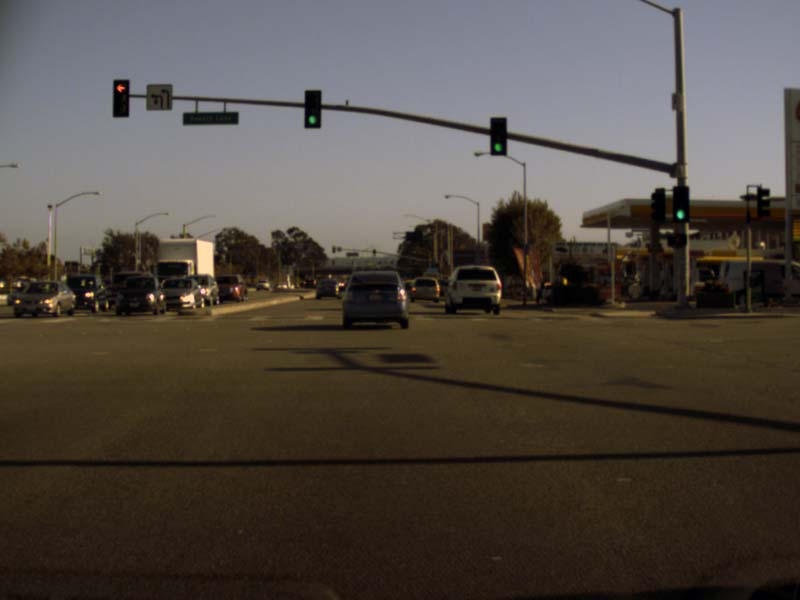Green: (490, 117, 505, 154), (673, 186, 688, 221), (305, 90, 319, 127)
Red: (113, 80, 128, 116)
